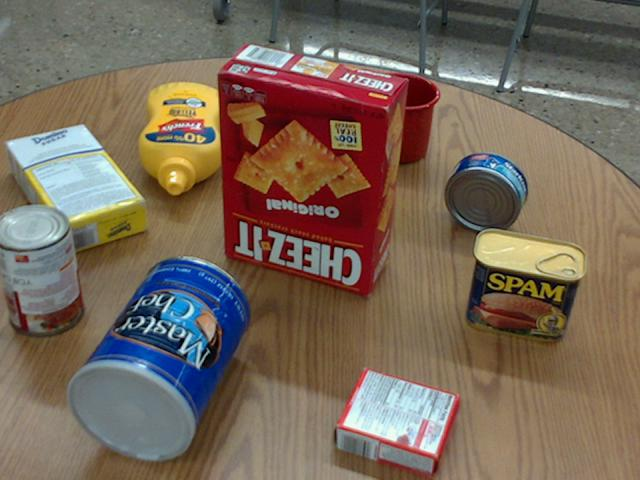cracker_box: (217, 44, 408, 293)
gelatin_box: (334, 367, 459, 476)
large_marker: (274, 99, 319, 155)
master_chef_can: (67, 255, 250, 461)
mug: (356, 72, 439, 163)
mustard_bottle: (137, 82, 226, 193)
potted_meat_can: (465, 229, 585, 341)
sugar_box: (4, 120, 147, 255)
tomato_soup_can: (0, 202, 83, 335)
tuna_fish_can: (443, 152, 527, 232)
